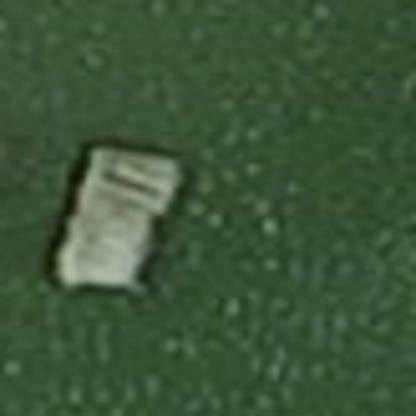ship: (38, 132, 194, 310)
